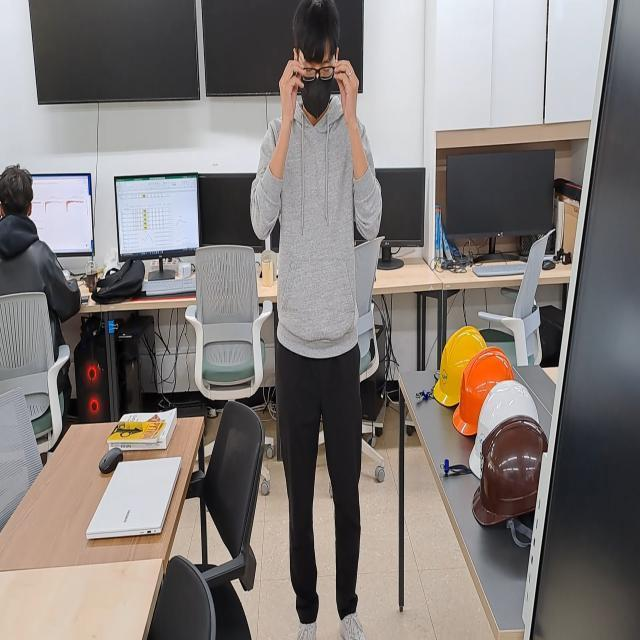vest: (250, 0, 384, 640), (0, 163, 84, 304)
